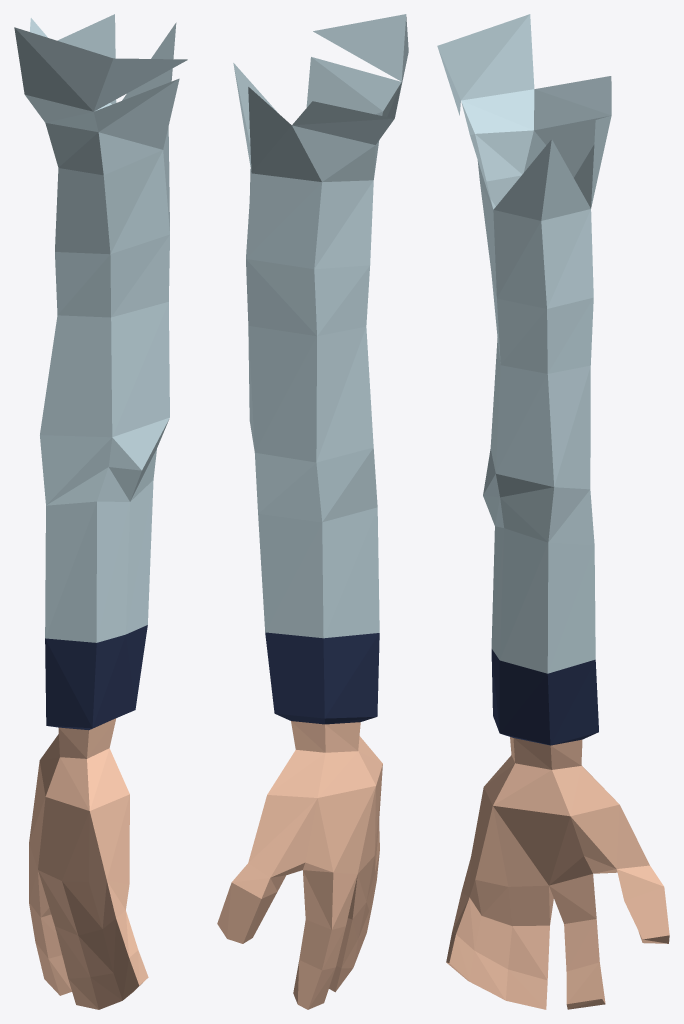
The model's file is ArmL.obj.
The picture shows the model from 3 angles, left to right: view 1: azimuth 30°, elevation 25°; view 2: azimuth 150°, elevation 25°; view 3: azimuth 270°, elevation 25°; orthographic projection. The views are drawn at different scales.
Size of the model in its own units: 0.1566 by 0.8641 by 0.1891.
1 material, 1 textured.
